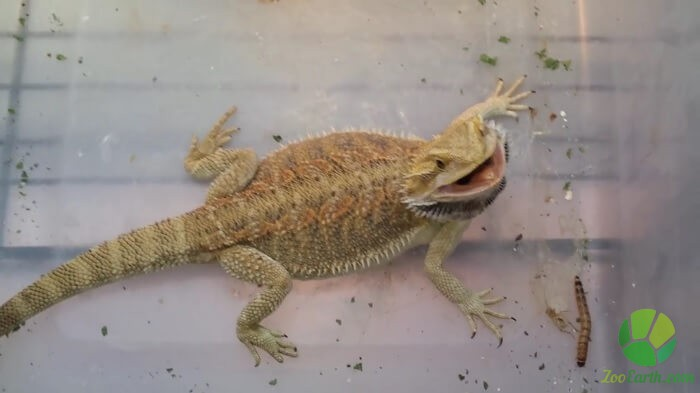bearded: (5, 78, 544, 372)
